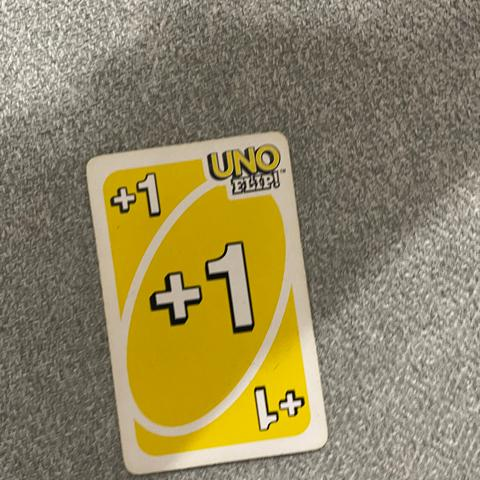lyellow-10: (102, 163, 174, 231)
